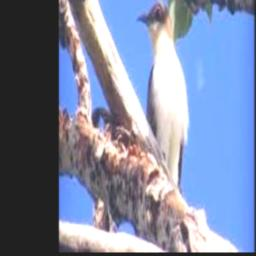Cuckoo: (135, 1, 189, 188)
